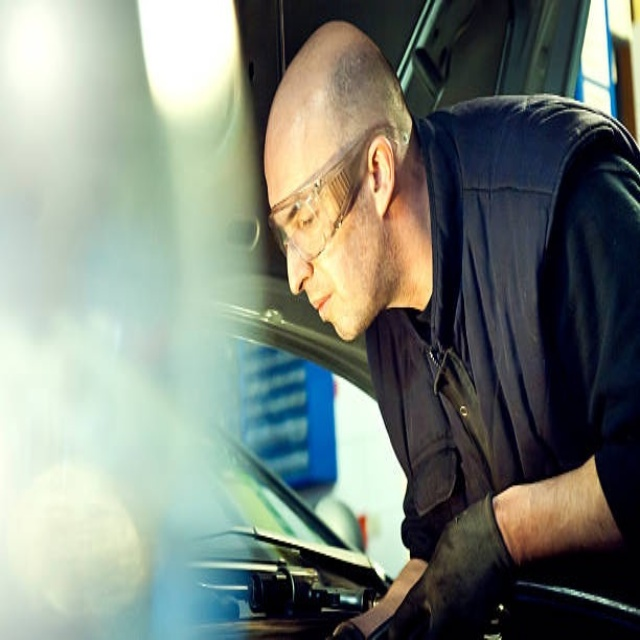Gafas: (268, 123, 400, 267)
Guantes: (360, 490, 517, 640)
Sin_mascara: (305, 282, 358, 342)
